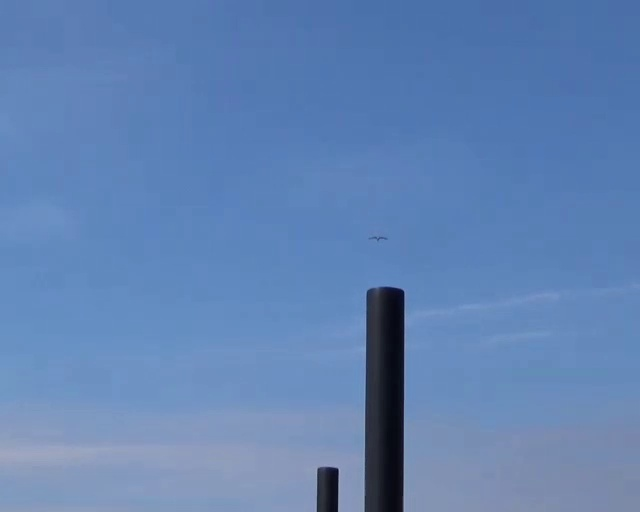BIRD: (368, 235, 388, 241)
